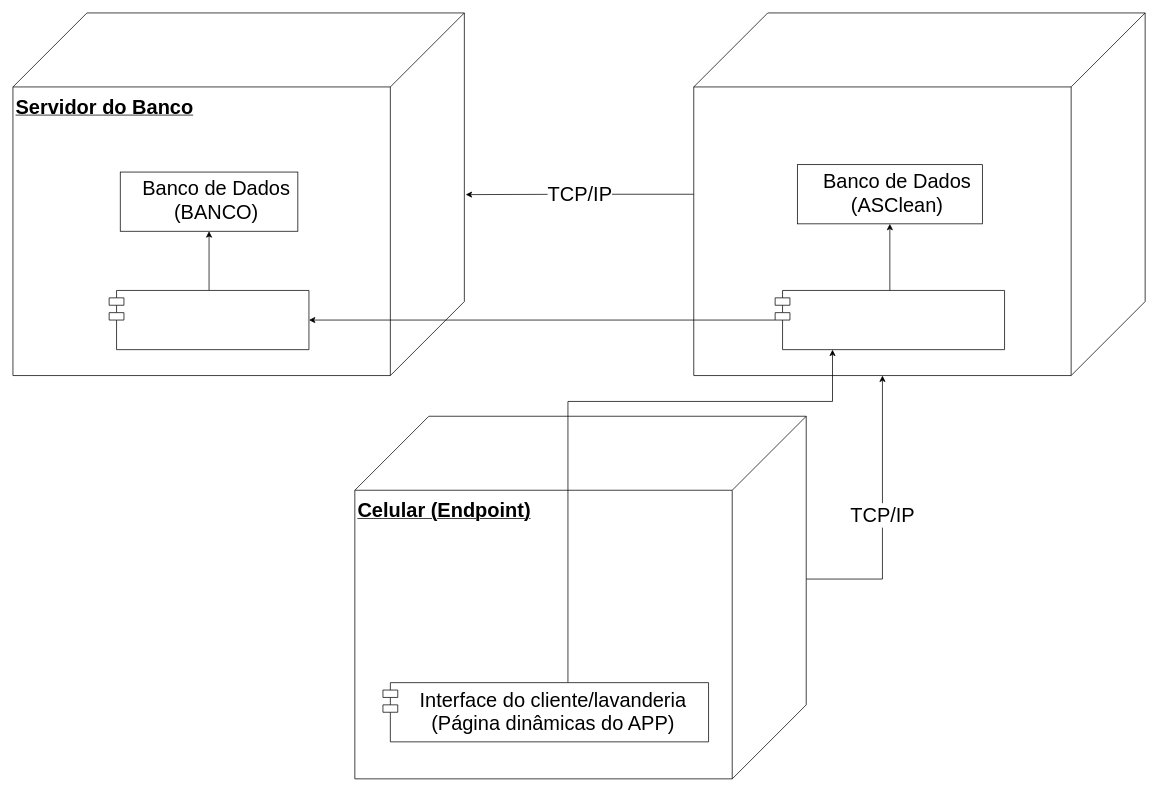
The diagram is 1158 pixels wide and 792 high, and some of its shapes have lost their labels. Here are the shapes that lost their labels. From the top down, the box of each, then its label:
(693, 12, 1145, 376): Servidor ASClean
(108, 290, 309, 350): Aplicação backend sistema financeiro
(774, 290, 1005, 350): Aplicação backend ASClean
